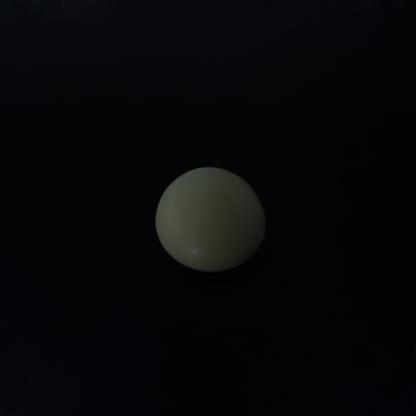egg: (146, 158, 266, 276)
